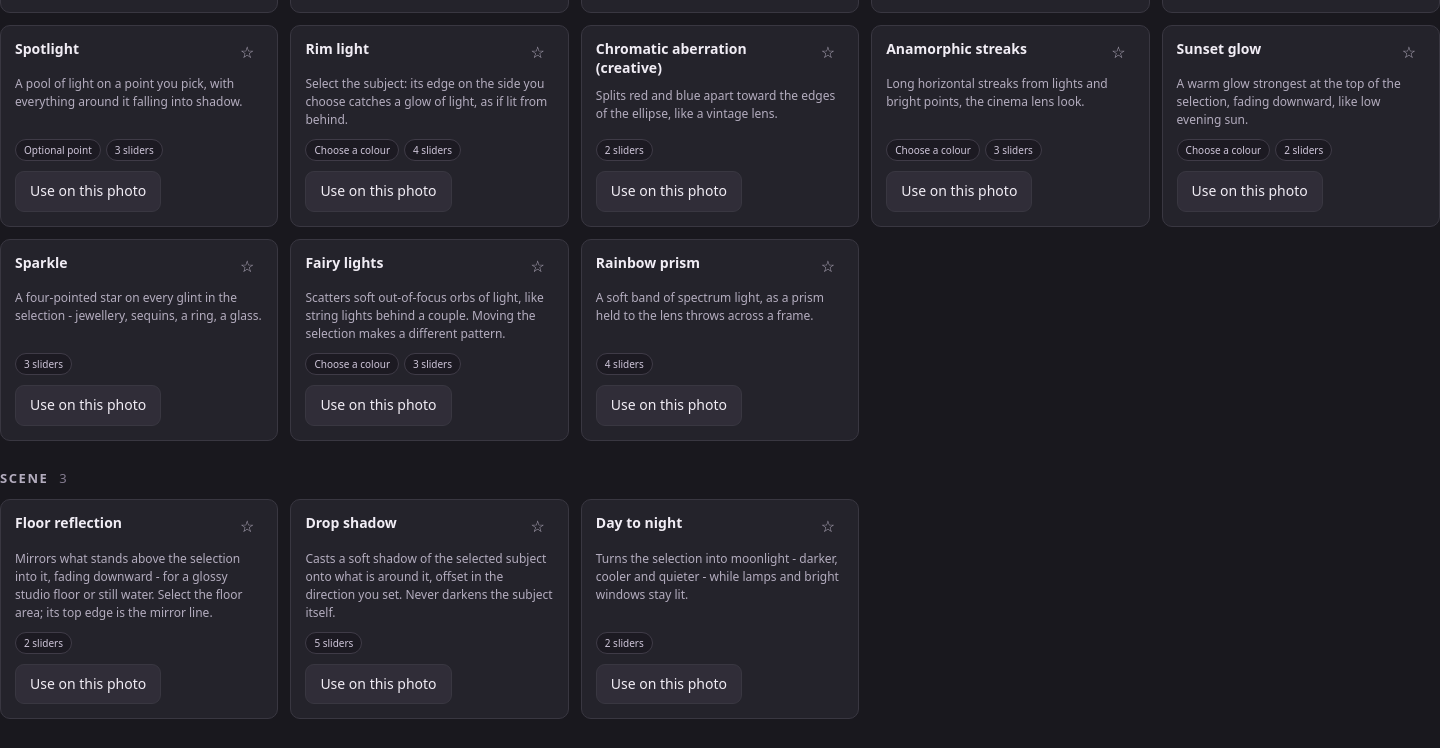
Test case: using a tool asks Retouch for it, remembers it and opens the photo
(page scrolled)
Click the 7th button "Use on this photo" at (378, 405), box left=305, top=385, right=452, bottom=426
(page scrolled)
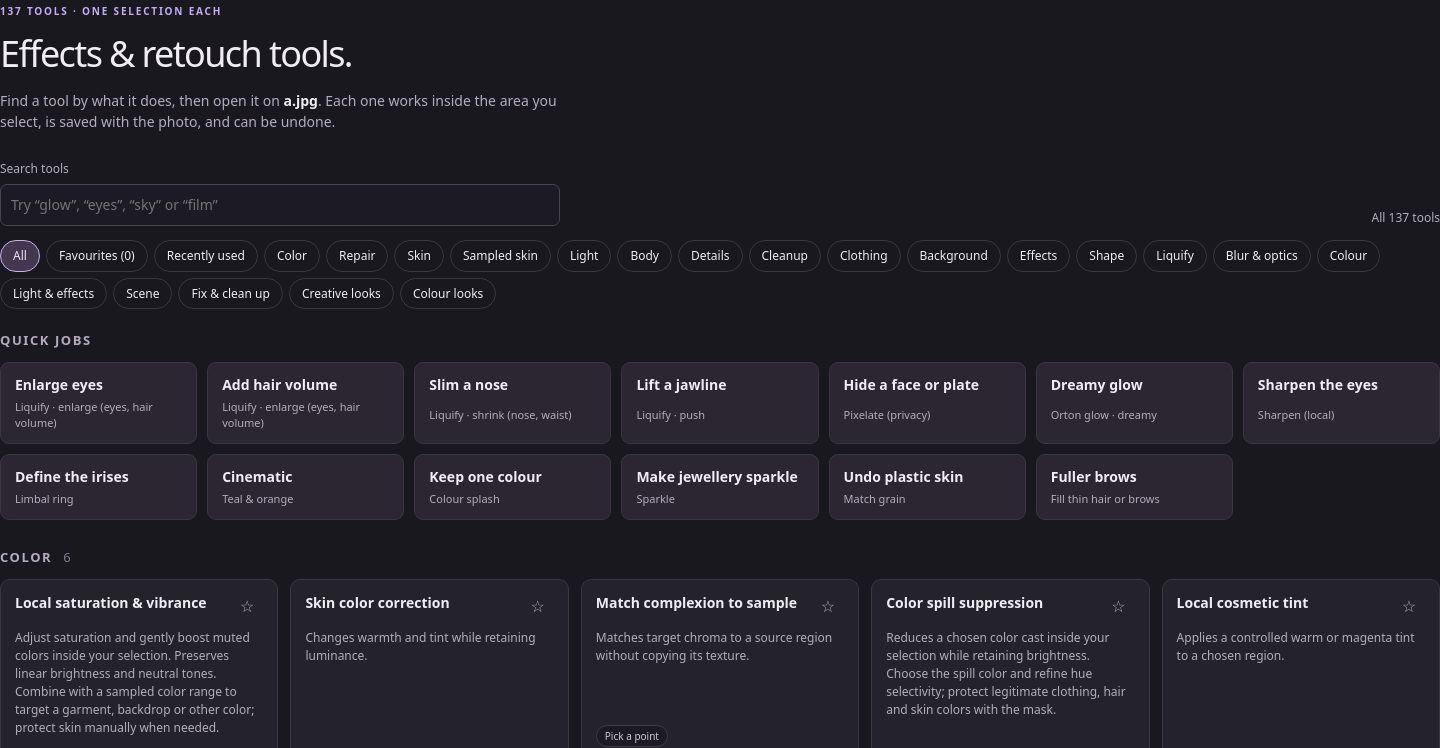
Click the button "Recently used" at (206, 256), box left=154, top=240, right=258, bottom=272
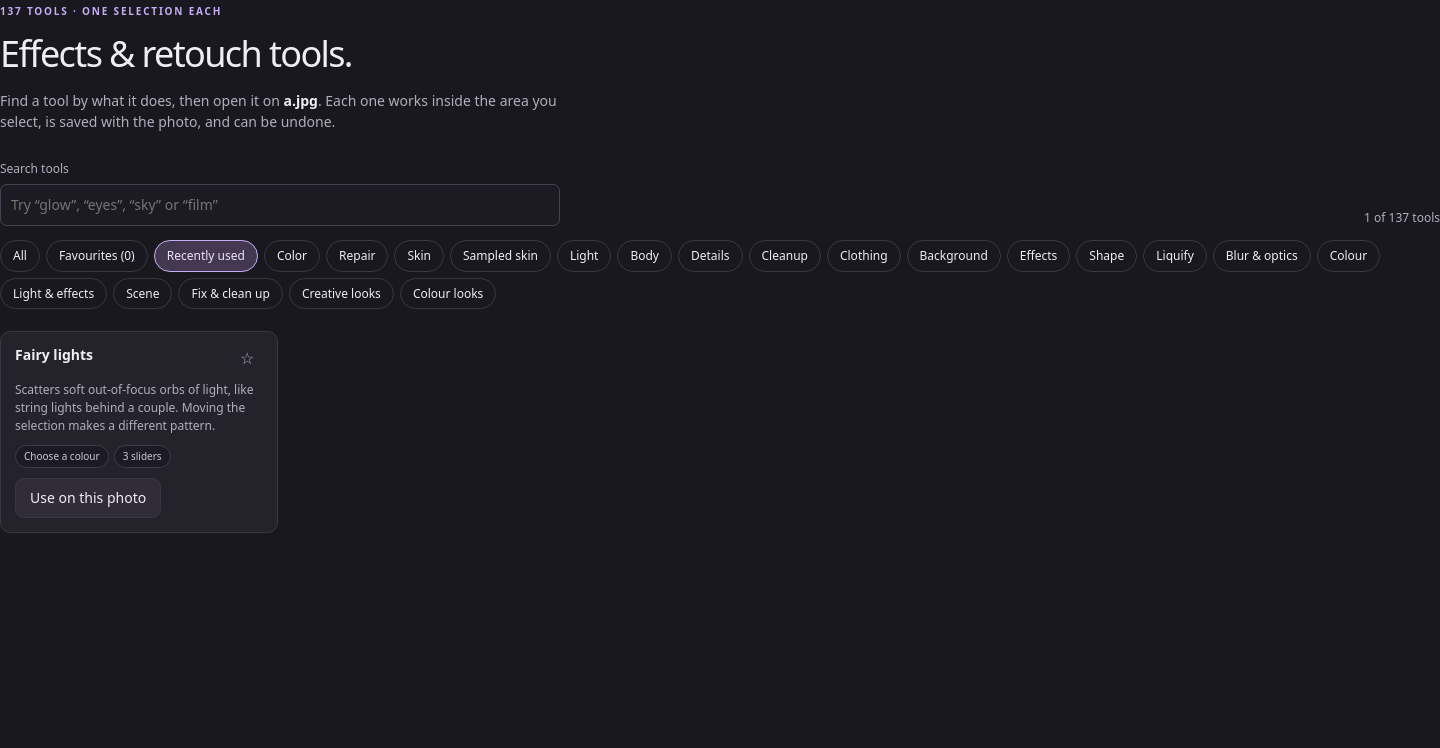
Now the number of buttons "Use on this photo" is 1, box left=15, top=478, right=161, bottom=518
